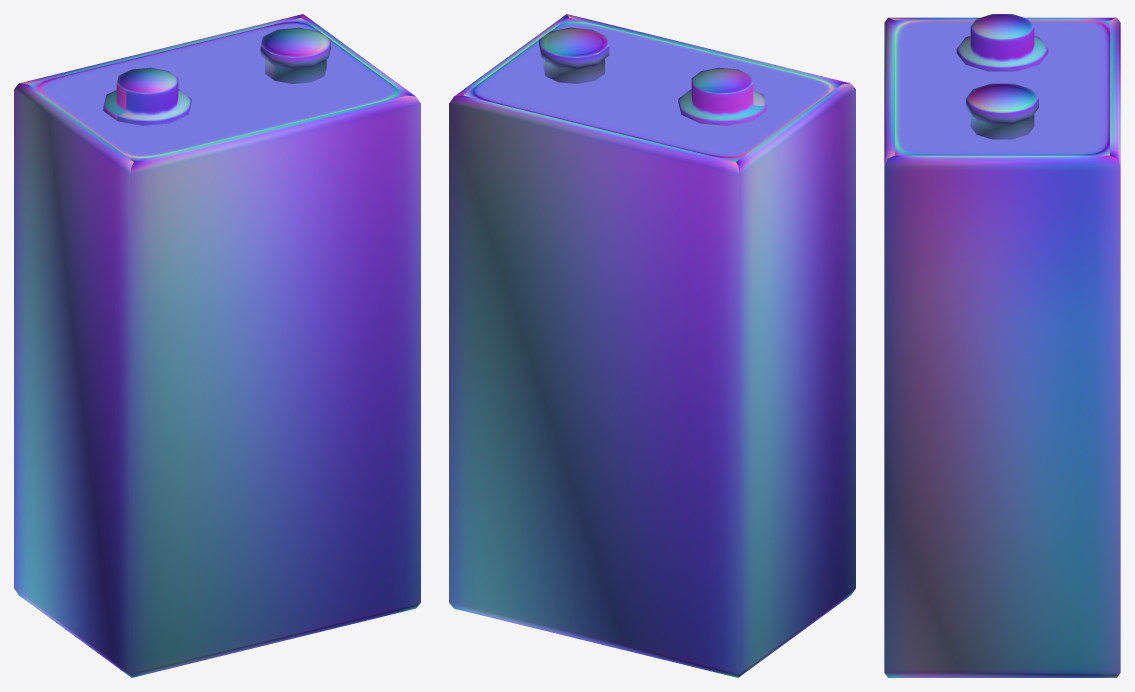
Rendered from battery.fbx.
The picture shows the model from 3 angles, left to right: view 1: azimuth 30°, elevation 25°; view 2: azimuth 150°, elevation 25°; view 3: azimuth 270°, elevation 25°; orthographic projection.
Parts seen in each view (by area): view 1: default; view 2: default; view 3: default.
Part boxes in pixels (<box>): default: <box>14,14,420,677</box>; default: <box>449,14,855,677</box>; default: <box>884,14,1120,677</box>.
Bounding box in the file's own units: 1.96 × 3.48 × 1.36.
Materials: 1 (1 with a texture image).
